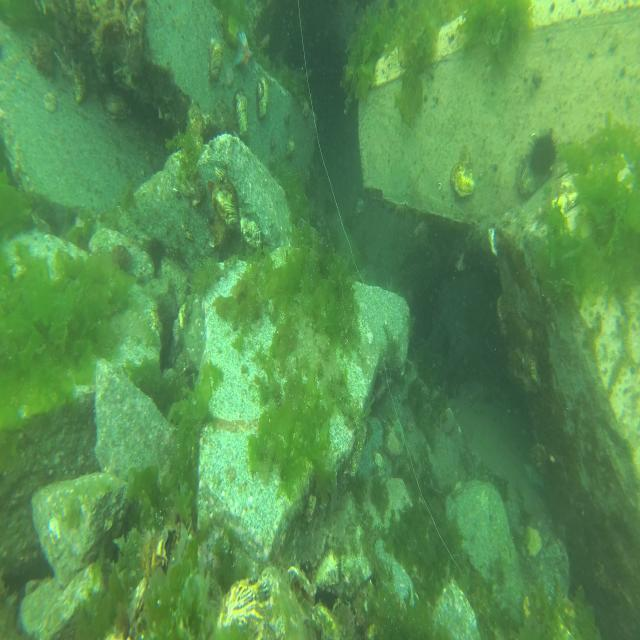echinus: (525, 128, 560, 180), (147, 234, 165, 270), (374, 367, 384, 396)
scallop: (440, 407, 454, 433)
starfish: (233, 29, 253, 74)
